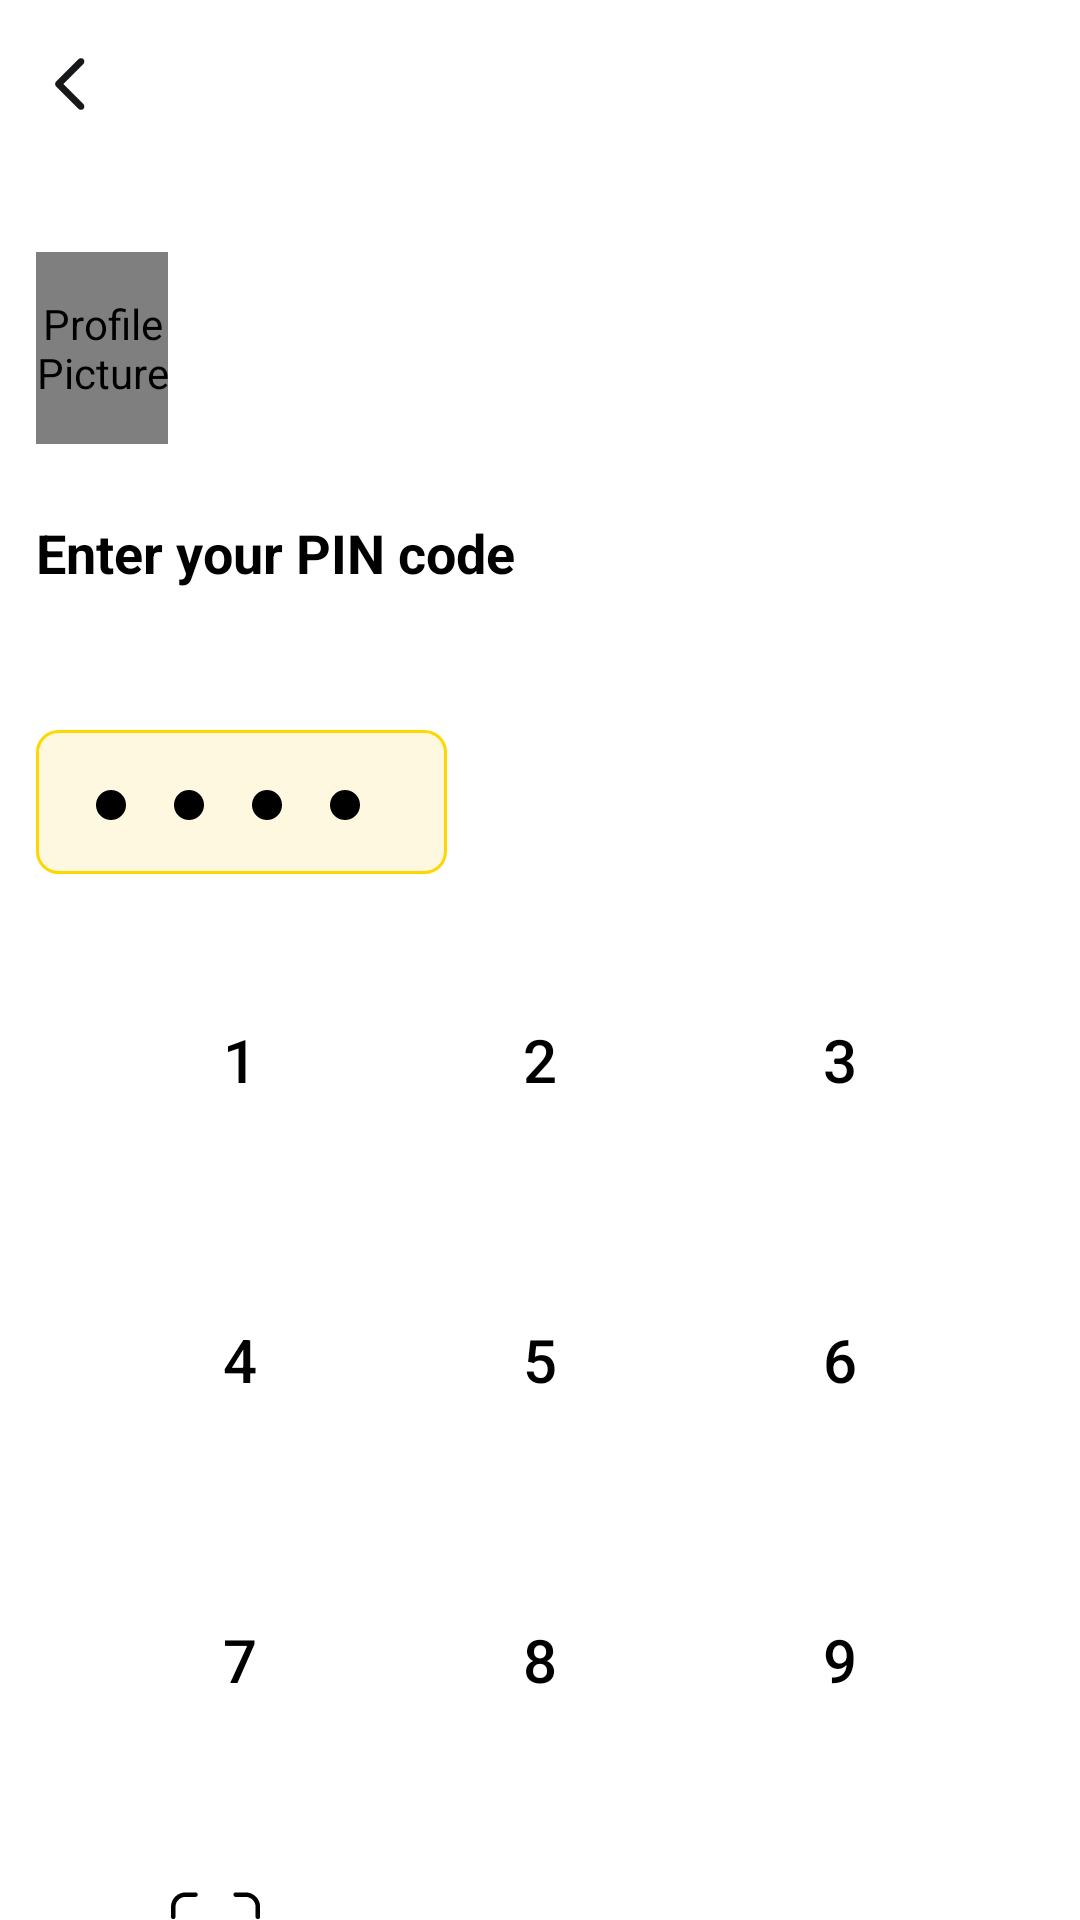

Icons on this 1080×1920 Android screen, each with the point to tap as (x=x, y=y):
Back: (x=70, y=84)
pin dot: (x=111, y=805), (x=189, y=805), (x=267, y=805), (x=345, y=805)
